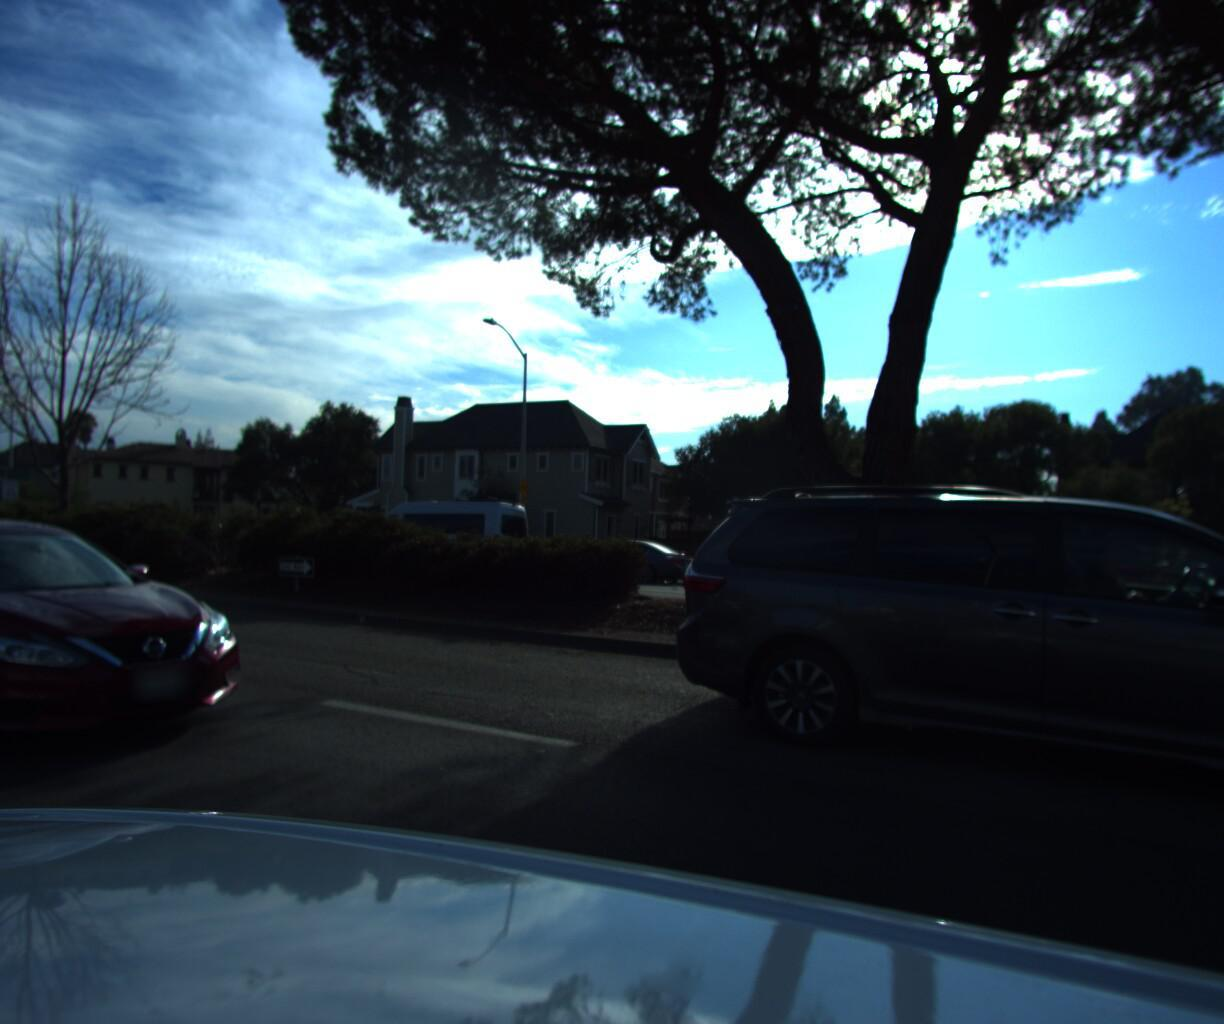car: (640, 476, 1224, 880), (0, 499, 311, 816), (916, 529, 1177, 623), (340, 489, 538, 577), (542, 531, 700, 587)
other_vehicle: (1212, 484, 1224, 664)
